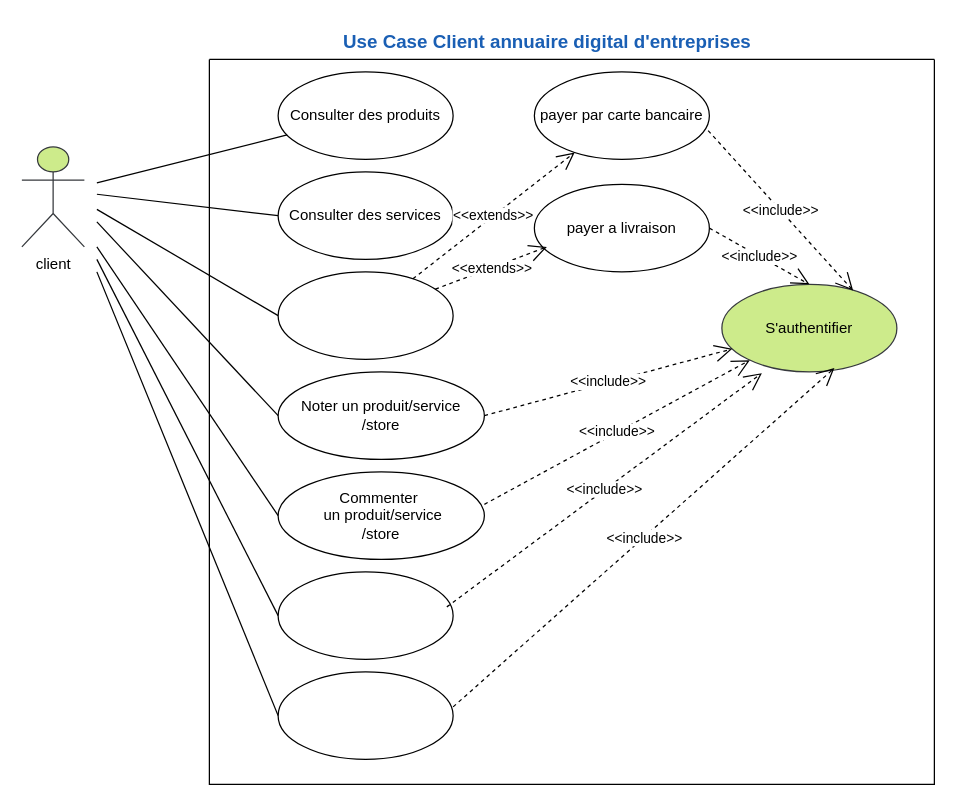
This 956x806 diagram has some shape labels left out. The shapes that lost their labels are listed below. From the top down, each one's box as (x1, y1, x2, y2) in pixels, then its label:
(277, 271, 453, 359): Passer une commande
(277, 571, 453, 659): Contacter l'admin
(277, 671, 453, 759): Supprimer le compte
